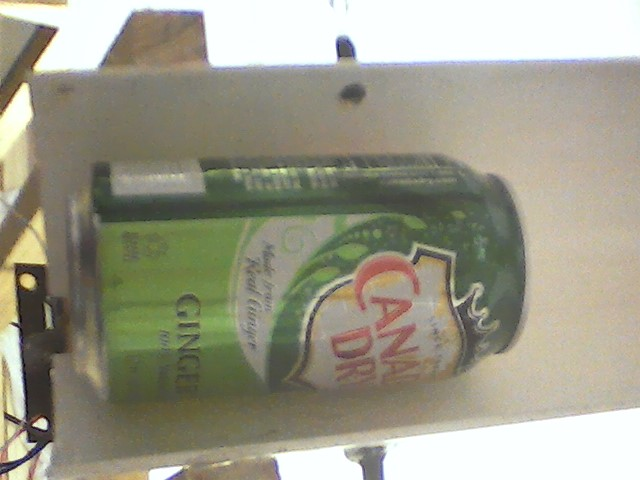lata: (64, 145, 540, 409)
